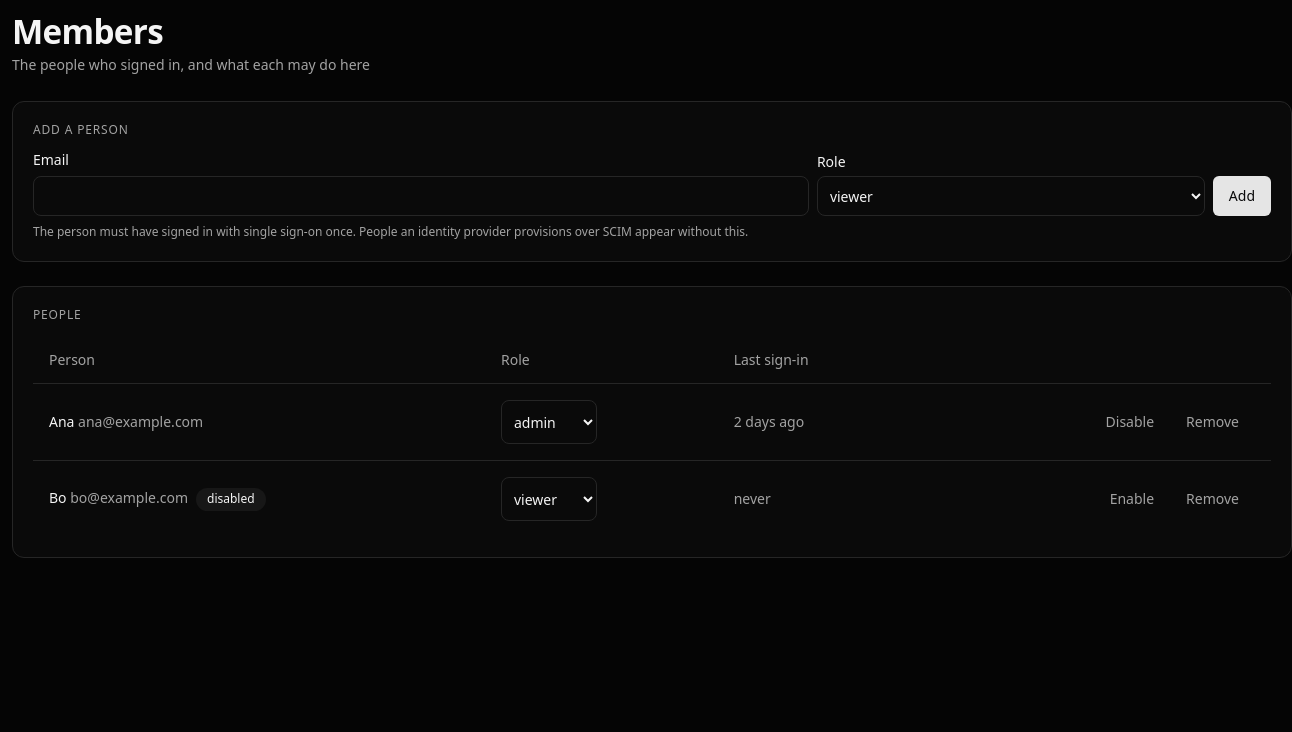
the members page › shows the server’s own sentence when a change is refused
Click the button with aria-label "Disable ana@example.com": x=1130, y=422 [1090,400,1170,444]
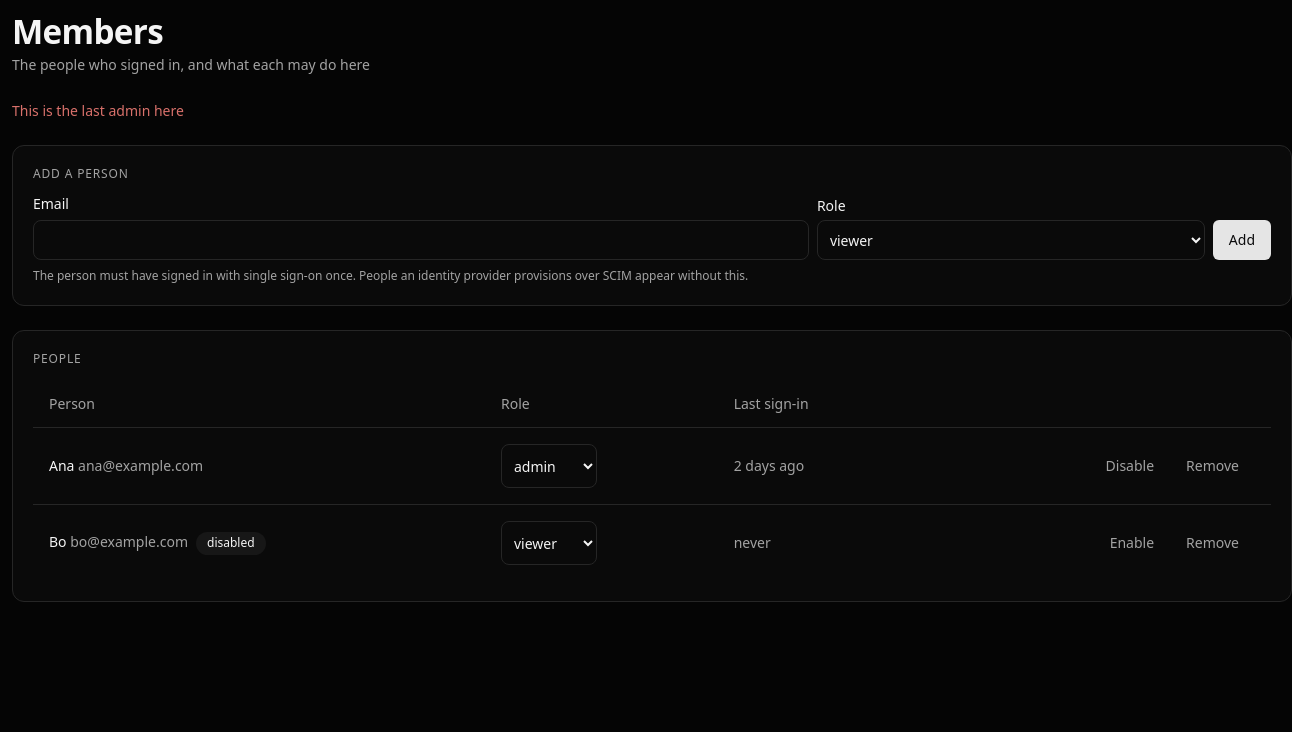
Expected: the message reads "This is the last admin here", [12,101,184,120]
